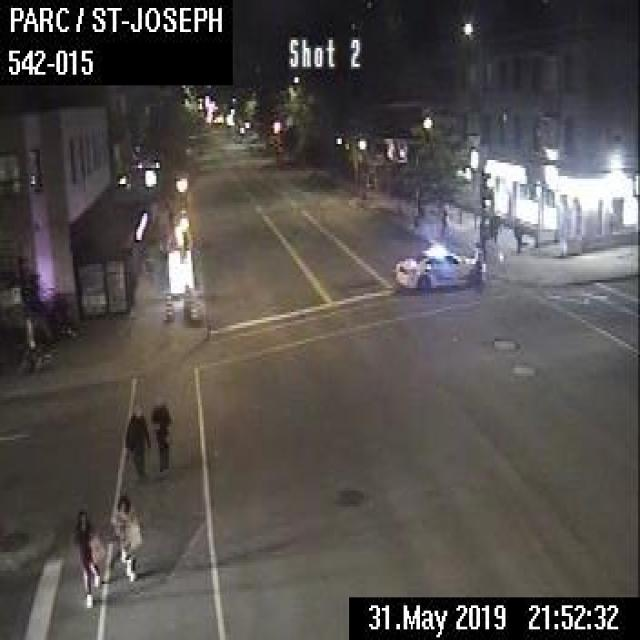construction: (161, 286, 173, 320), (180, 282, 190, 312), (189, 289, 197, 318)
pedestrian: (105, 491, 140, 578), (72, 506, 102, 606), (124, 397, 149, 475), (151, 397, 170, 471)
vehicle: (392, 241, 480, 288)
